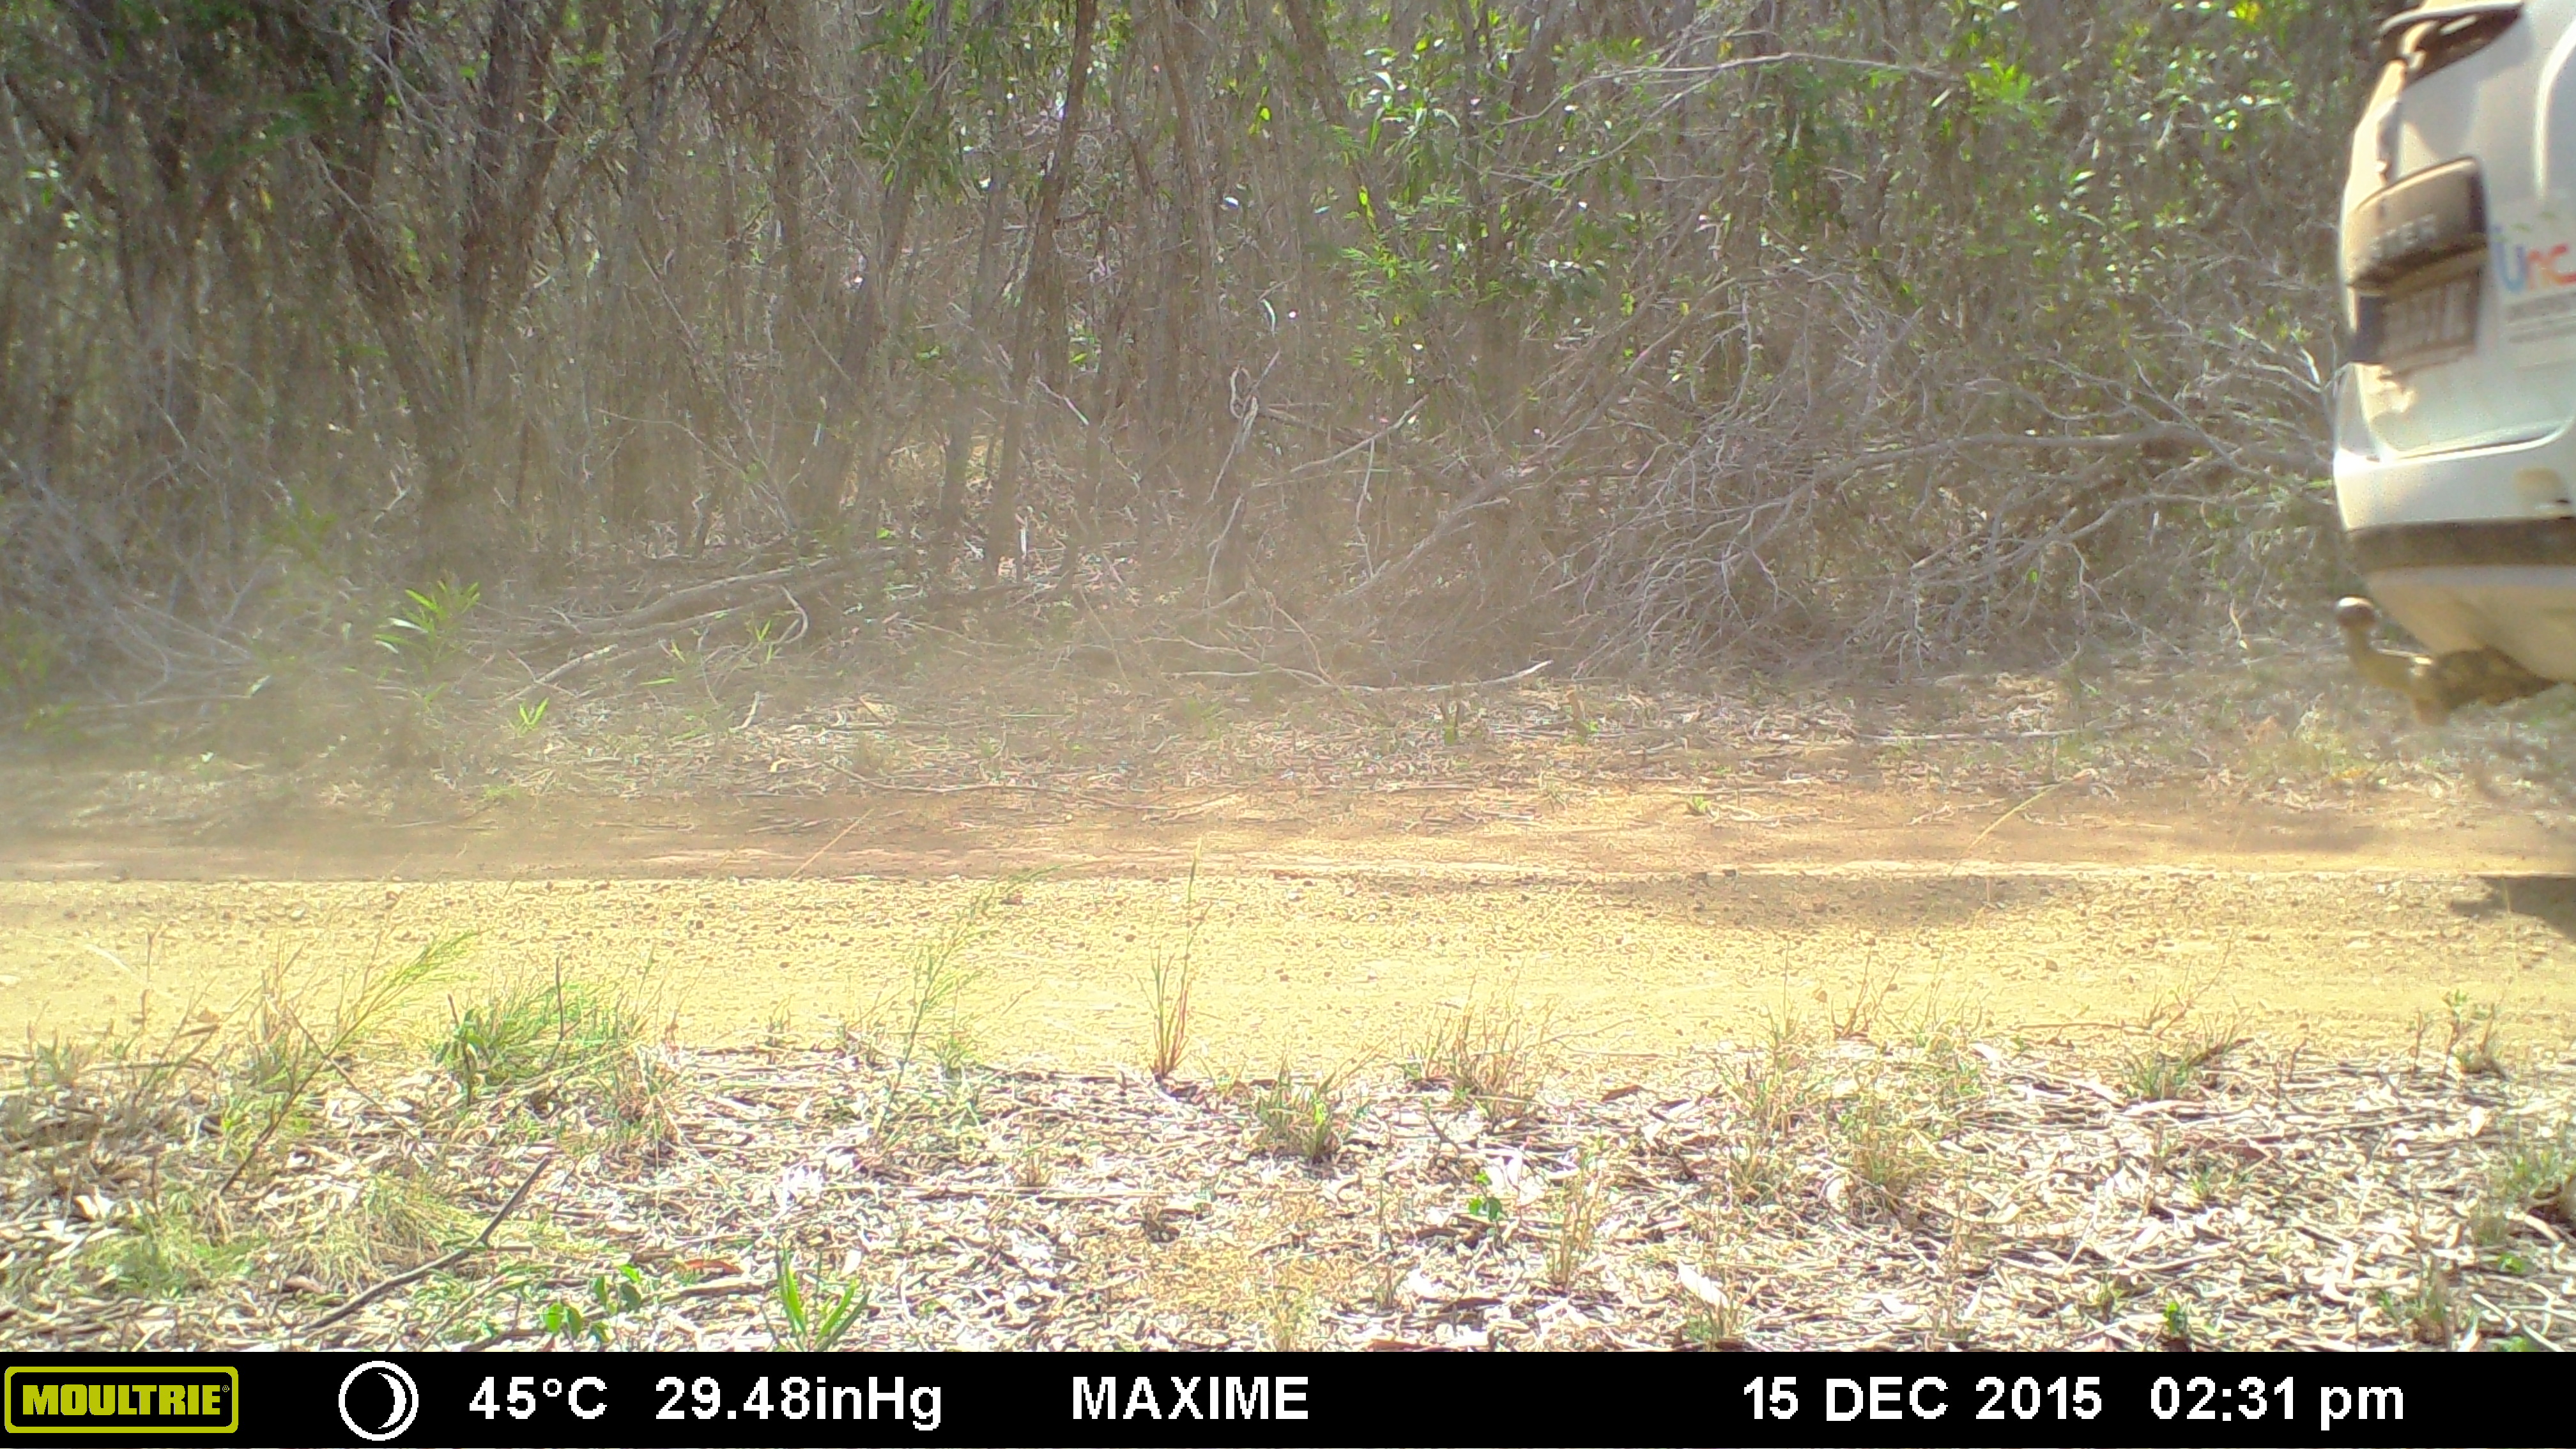Car: (2307, 0, 2572, 755)
